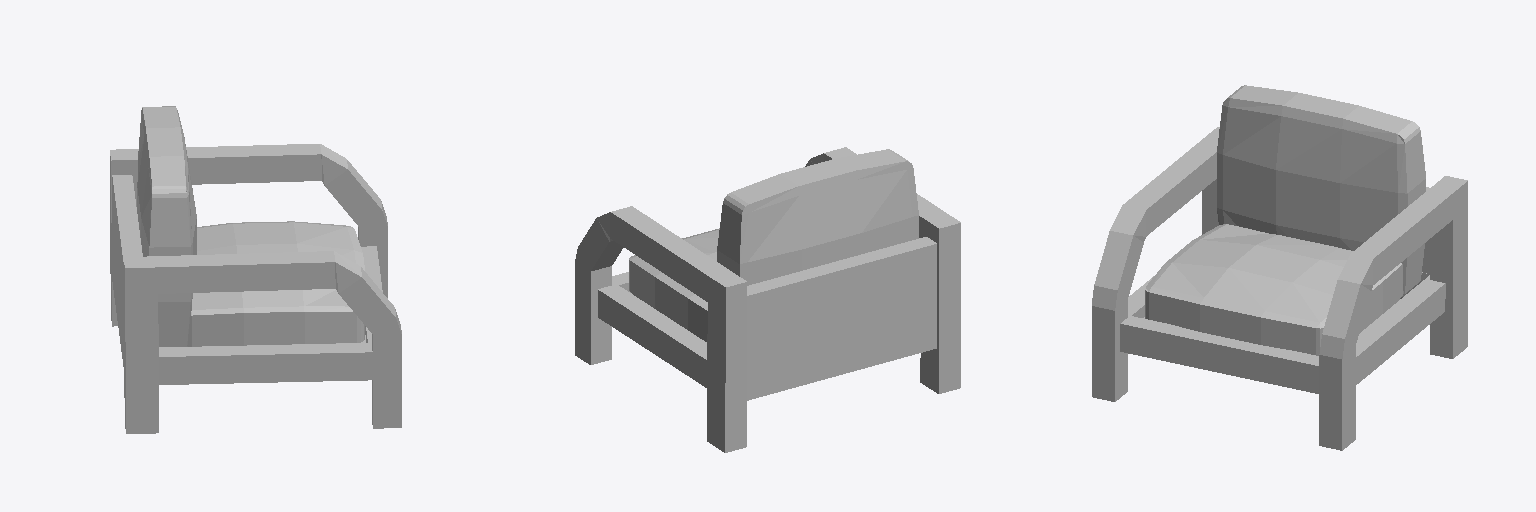
File: Sofa.obj
The picture shows the model from 3 angles: view 1: azimuth 30°, elevation 25°; view 2: azimuth 150°, elevation 25°; view 3: azimuth 270°, elevation 25°; orthographic projection.
Parts seen in each view (by area): view 1: SofaSolo_Cube.007; view 2: SofaSolo_Cube.007; view 3: SofaSolo_Cube.007.
Boxes of the visible parts, box(x1,y1,x2,y2) form: SofaSolo_Cube.007: box(110, 106, 401, 433); SofaSolo_Cube.007: box(575, 147, 960, 452); SofaSolo_Cube.007: box(1092, 85, 1467, 450).
Size of the model in its own units: 0.984 by 0.6724 by 0.9901.